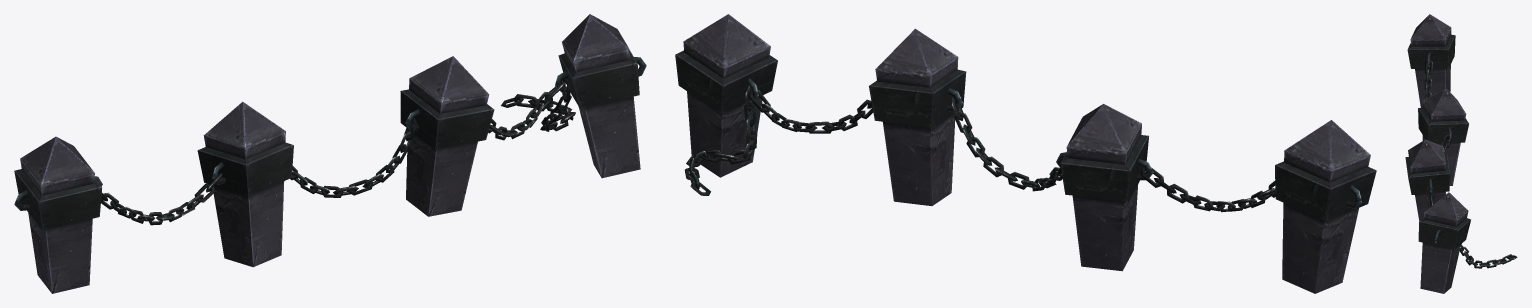
File: pillar.FBX
3 views of the same model, side by side, from view 1: azimuth 30°, elevation 25°; view 2: azimuth 150°, elevation 25°; view 3: azimuth 270°, elevation 25° (orthographic). The views are drawn at different scales.
Parts seen in each view (by area): view 1: pillar; view 2: pillar; view 3: pillar.
Boxes of the visible parts, x1,y1,x2,y2 form: pillar: (14,14,646,293); pillar: (675,14,1376,293); pillar: (1405,14,1517,293).
Size of the model in its own units: 271 by 72.66 by 68.4.
